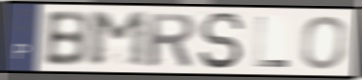B: (42, 9, 92, 68)
L: (253, 14, 290, 69)
M: (88, 10, 149, 69)
O: (299, 14, 349, 71)
R: (145, 11, 197, 68)
S: (197, 11, 246, 71)
